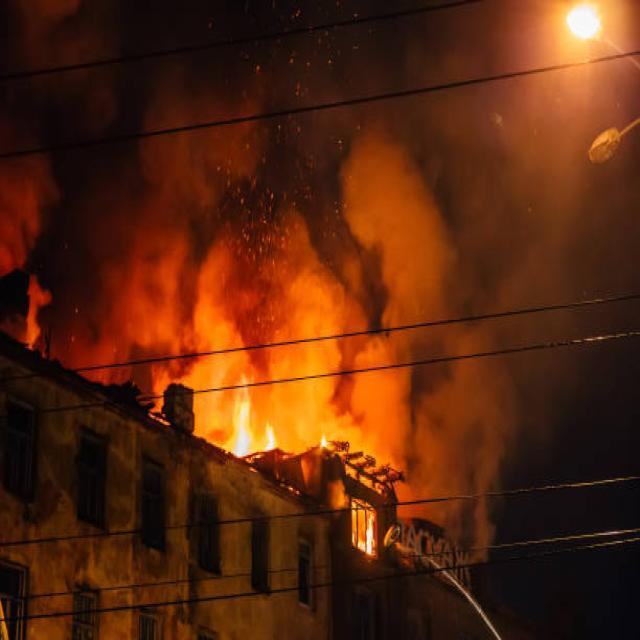Fire: (212, 374, 272, 454), (351, 508, 376, 559)
Smoke: (174, 287, 458, 524), (80, 185, 200, 392), (0, 162, 45, 344)
